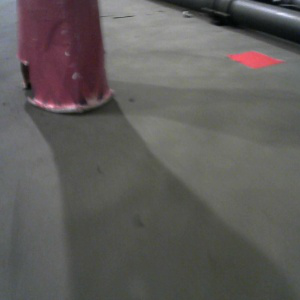middle: (16, 1, 114, 114)
